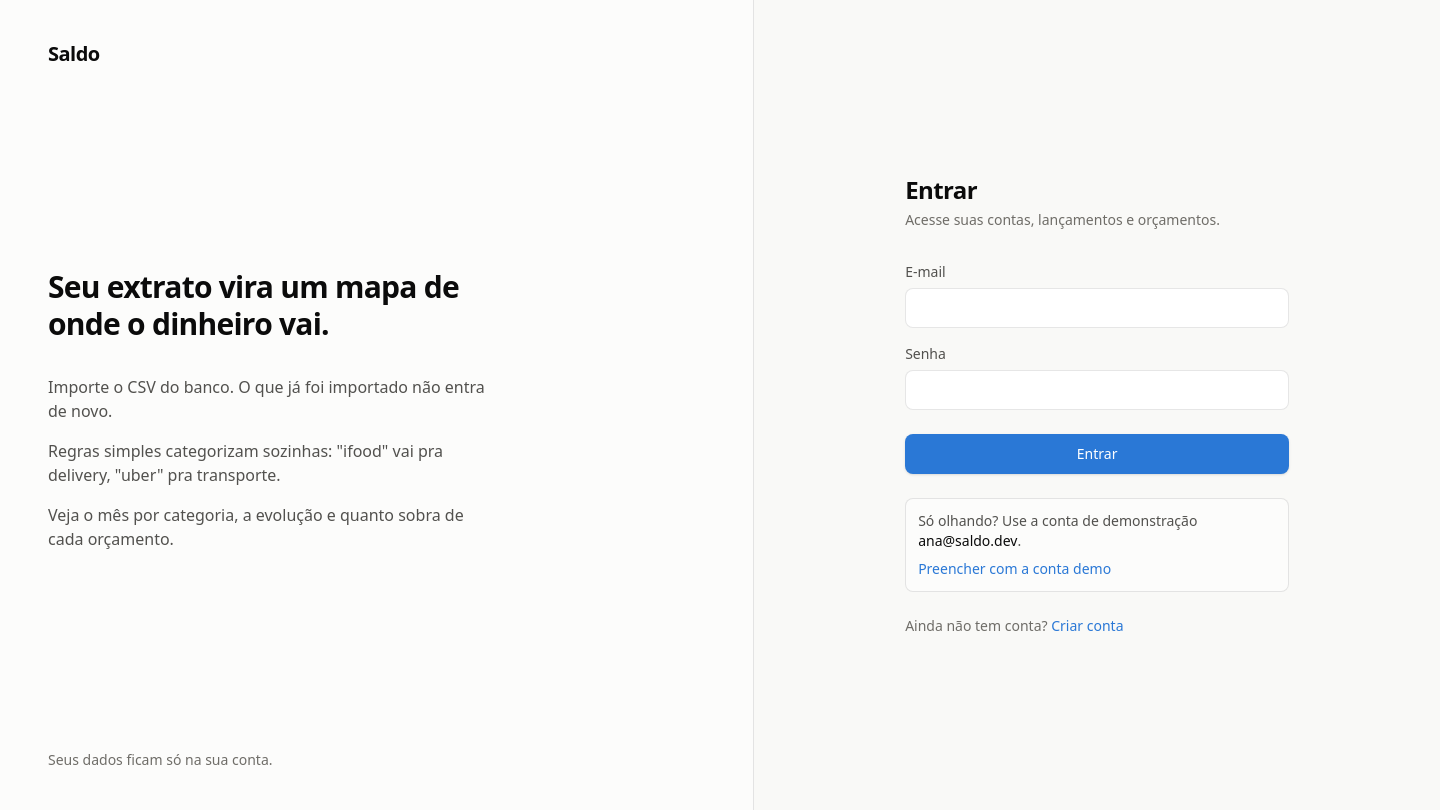
Test: login › shows the API message when the password is wrong
Type "ana@saldo.dev" into the field labelled "E-mail".
click(1097, 308); type("ana@saldo.dev")  # box [905,288,1289,328]
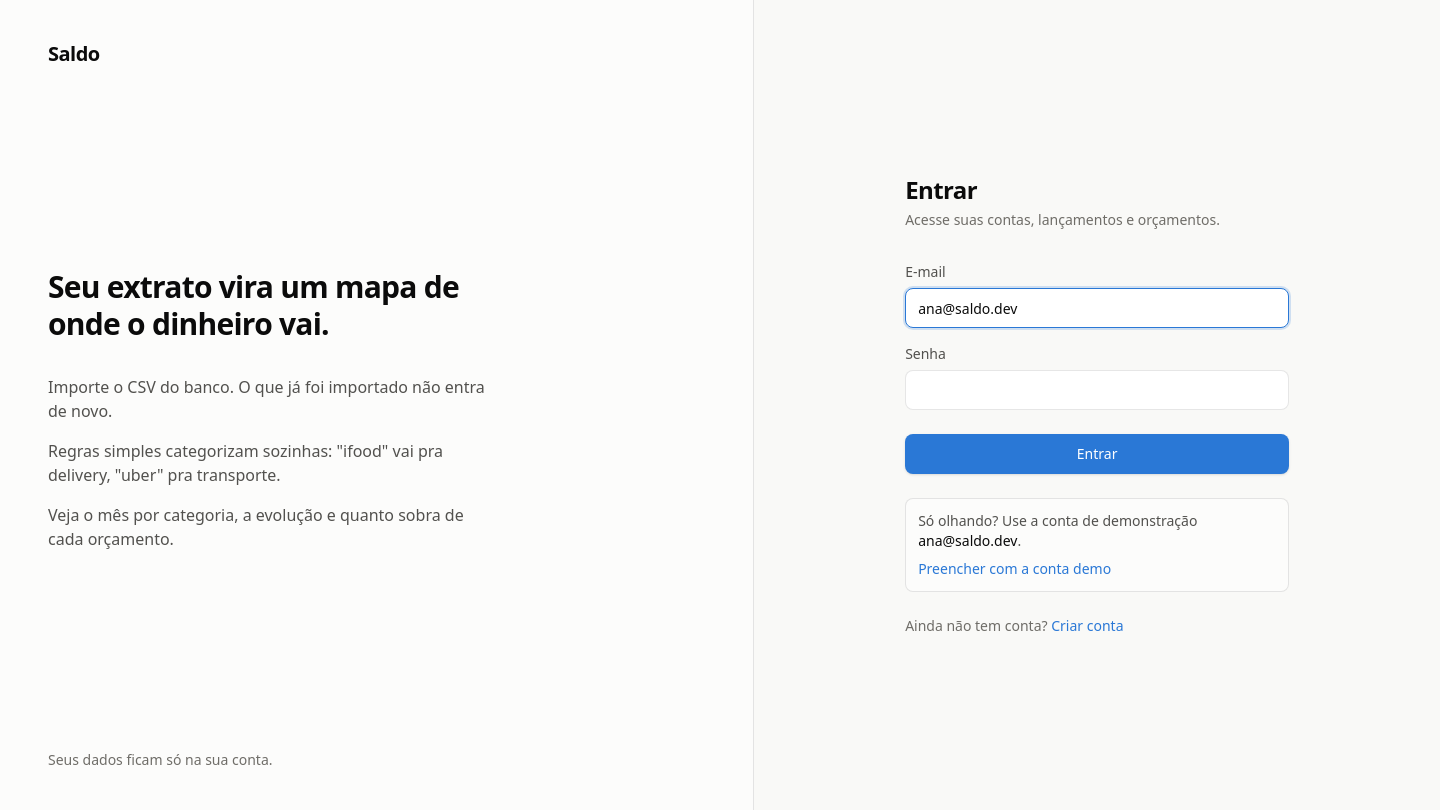
Type "errada" into the password field labelled "Senha".
click(1097, 390); type("errada")  # box [905,370,1289,410]
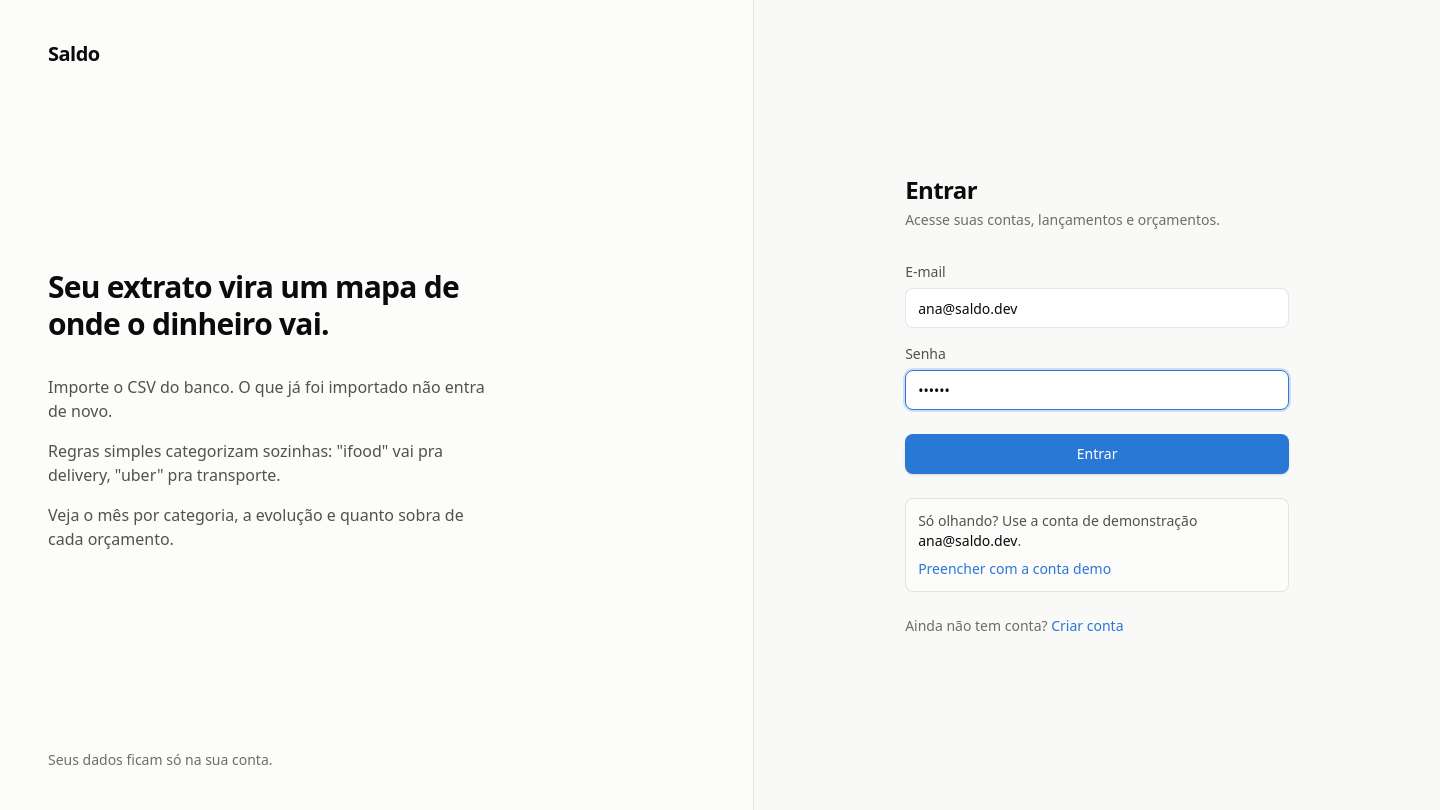
Click the button "Entrar".
click(1097, 454)  # box [905,434,1289,474]
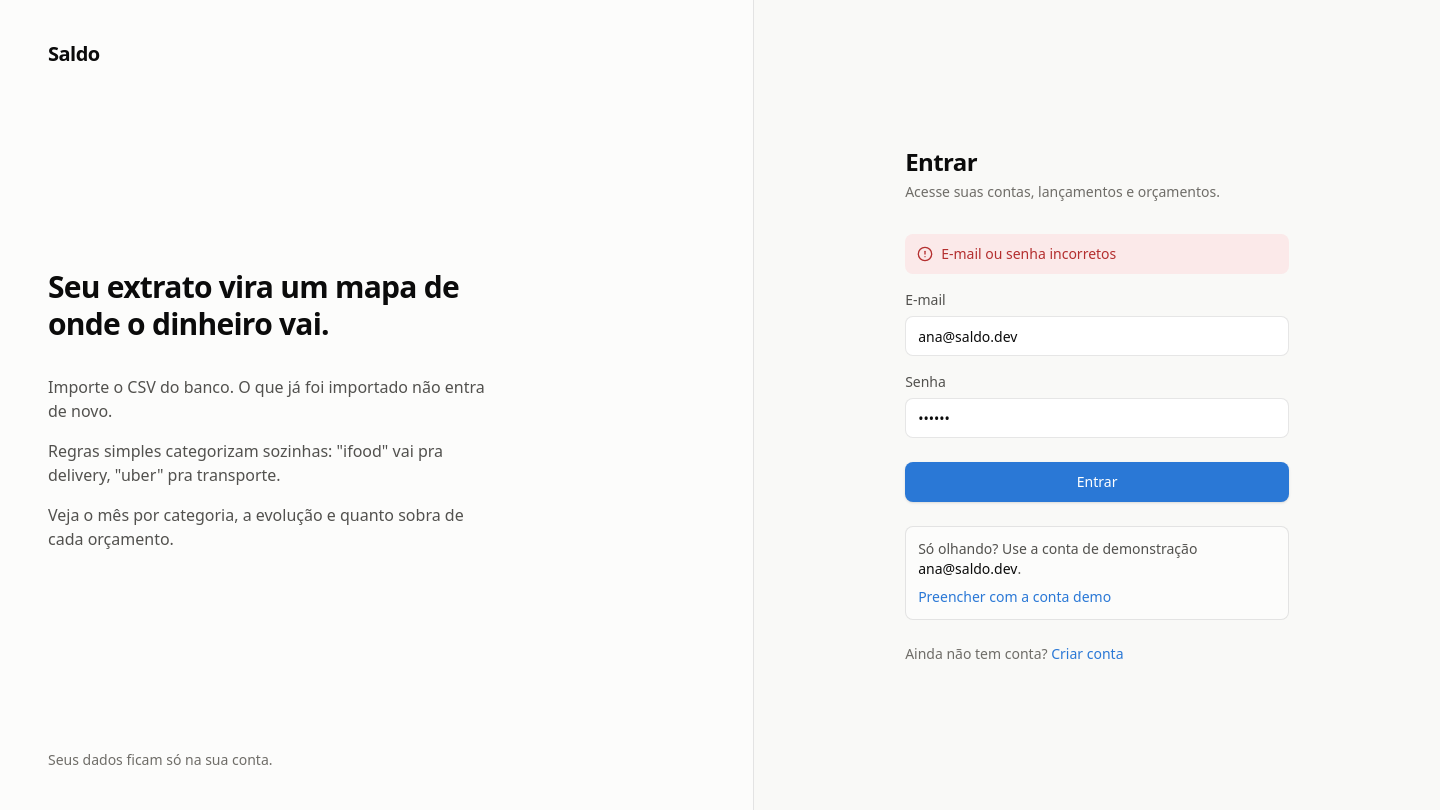
Expected: the message reads "E-mail ou senha incorretos", [941,244,1116,263]
